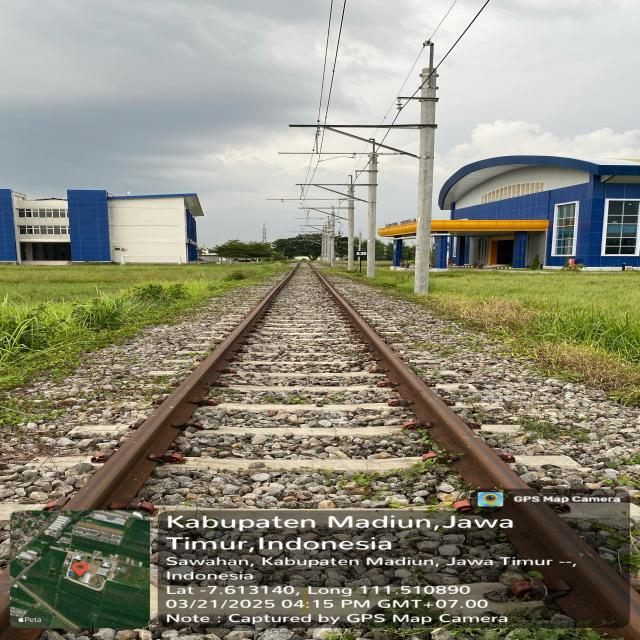rail-detection: (64, 262, 300, 510), (309, 262, 529, 495), (502, 501, 640, 627)
